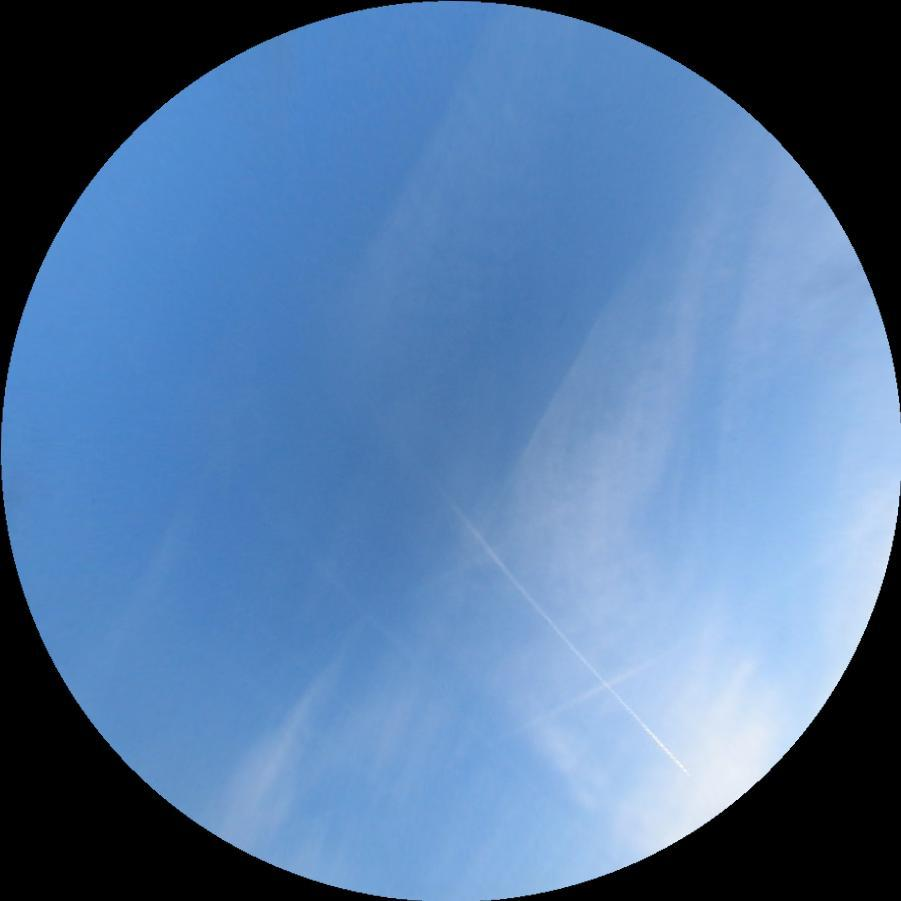contrail veryold: (322, 573, 527, 771), (493, 653, 668, 746)
contrail young: (424, 475, 692, 788), (242, 609, 371, 729)
